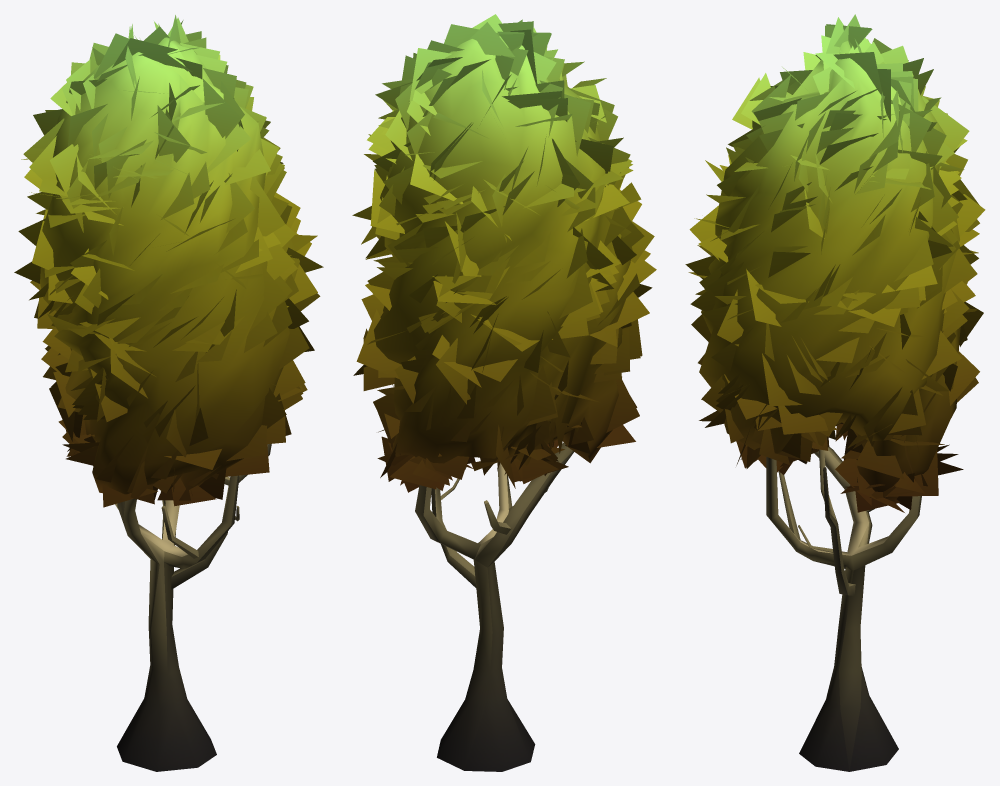
Rendered from Forest_Tree_8B.fbx.
3 renders of one model, left to right at view 1: azimuth 30°, elevation 25°; view 2: azimuth 150°, elevation 25°; view 3: azimuth 270°, elevation 25°, orthographic. The views are drawn at different scales.
Parts seen in each view (by area): view 1: Forest_Tree_8B; view 2: Forest_Tree_8B; view 3: Forest_Tree_8B.
Boxes of the visible parts, x1,y1,x2,y2 form: Forest_Tree_8B: (14, 15, 323, 771); Forest_Tree_8B: (352, 14, 656, 771); Forest_Tree_8B: (685, 14, 985, 771).
Size of the model in its own units: 293 by 793 by 302.
